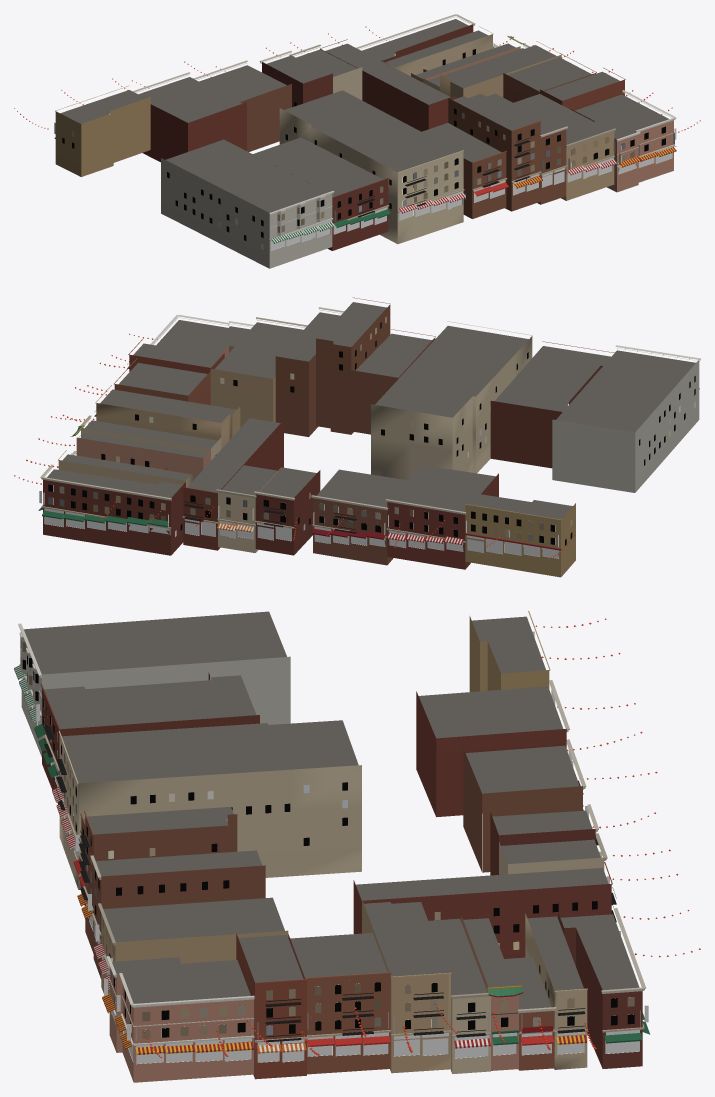
The picture shows the model from 3 angles, top to bottom: view 1: azimuth 30°, elevation 25°; view 2: azimuth 150°, elevation 25°; view 3: azimuth 270°, elevation 25°; orthographic projection. The views are drawn at different scales.
Parts seen in each view (by area): view 1: L1_roof, L1_stucco, L1_brickred, L1_d_brickred, L1_brick, L1_d_stucco, L1_win, L1_stone, L1_shopint, L1_d_fabric, L1_d_brick, L1_sign (+2 smaller); view 2: L1_roof, L1_brickred, L1_brick, L1_stucco, L1_d_brickred, L1_d_stucco, L1_win, L1_shopint, L1_stone, L1_d_brick, L1_d_fabric, L1_sign (+3 smaller); view 3: L1_roof, L1_brickred, L1_brick, L1_stucco, L1_d_stucco, L1_d_brickred, L1_win, L1_d_fabric, L1_stone, L1_shopint, L1_d_brick, L1_d_metal (+3 smaller).
Part boxes in pixels (x1,y1,x2,y2): L1_roof: (60,19,668,212); L1_stucco: (55,73,673,268); L1_brickred: (262,62,624,250); L1_d_brickred: (143,24,596,250); L1_brick: (279,34,614,244); L1_d_stucco: (81,46,616,192); L1_win: (62,49,665,249); L1_stone: (54,14,676,241); L1_shopint: (271,153,672,250); L1_d_fabric: (271,146,676,243); L1_d_brick: (301,54,566,200); L1_sign: (54,46,676,242); L1_roof: (47,302,695,519); L1_brickred: (43,304,602,569); L1_brick: (96,336,532,552); L1_stucco: (76,345,699,577); L1_d_brickred: (129,344,600,569); L1_d_stucco: (552,419,635,492); L1_win: (48,316,695,545); L1_shopint: (45,515,559,558); L1_stone: (40,297,700,550); L1_d_brick: (58,377,280,552); L1_d_fabric: (38,507,463,544); L1_sign: (39,453,559,552); L1_roof: (24,611,639,1009); L1_brickred: (42,672,642,1079); L1_brick: (59,735,587,1073); L1_stucco: (20,636,549,1082); L1_d_stucco: (42,616,500,1056); L1_d_brickred: (288,691,602,1069); L1_win: (20,639,634,1038); L1_d_fabric: (14,665,650,1054); L1_stone: (18,611,646,1045); L1_shopint: (22,677,639,1063); L1_d_brick: (115,841,604,1073); L1_d_metal: (44,721,616,1042).
Size of the model in its own units: 154 by 29.43 by 115.
